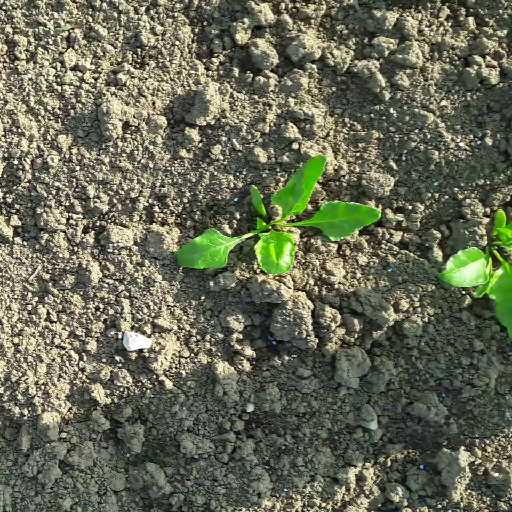sugarbeet: (173, 153, 383, 275), (437, 207, 512, 342)
